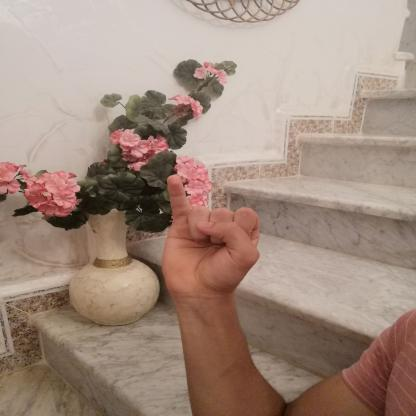MEEM: (136, 167, 284, 311)
